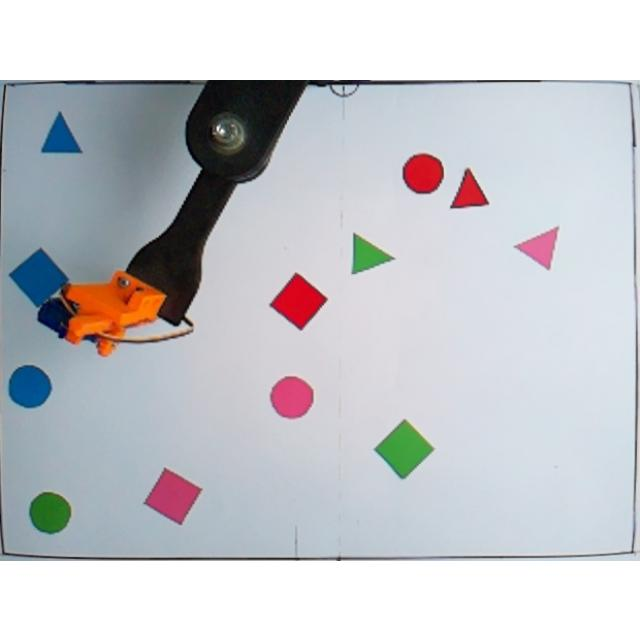blueCircle: (4, 362, 54, 410)
blueSquare: (8, 245, 72, 308)
blueTriangle: (41, 106, 84, 158)
greenCircle: (29, 488, 73, 534)
greenSquare: (374, 416, 434, 479)
greenTriangle: (349, 230, 396, 276)
pinkCircle: (270, 372, 314, 418)
pinkSquare: (142, 466, 204, 524)
pinkTriangle: (514, 220, 562, 268)
redCircle: (402, 150, 446, 196)
redSquare: (268, 268, 328, 332)
redTriangle: (447, 166, 491, 212)
